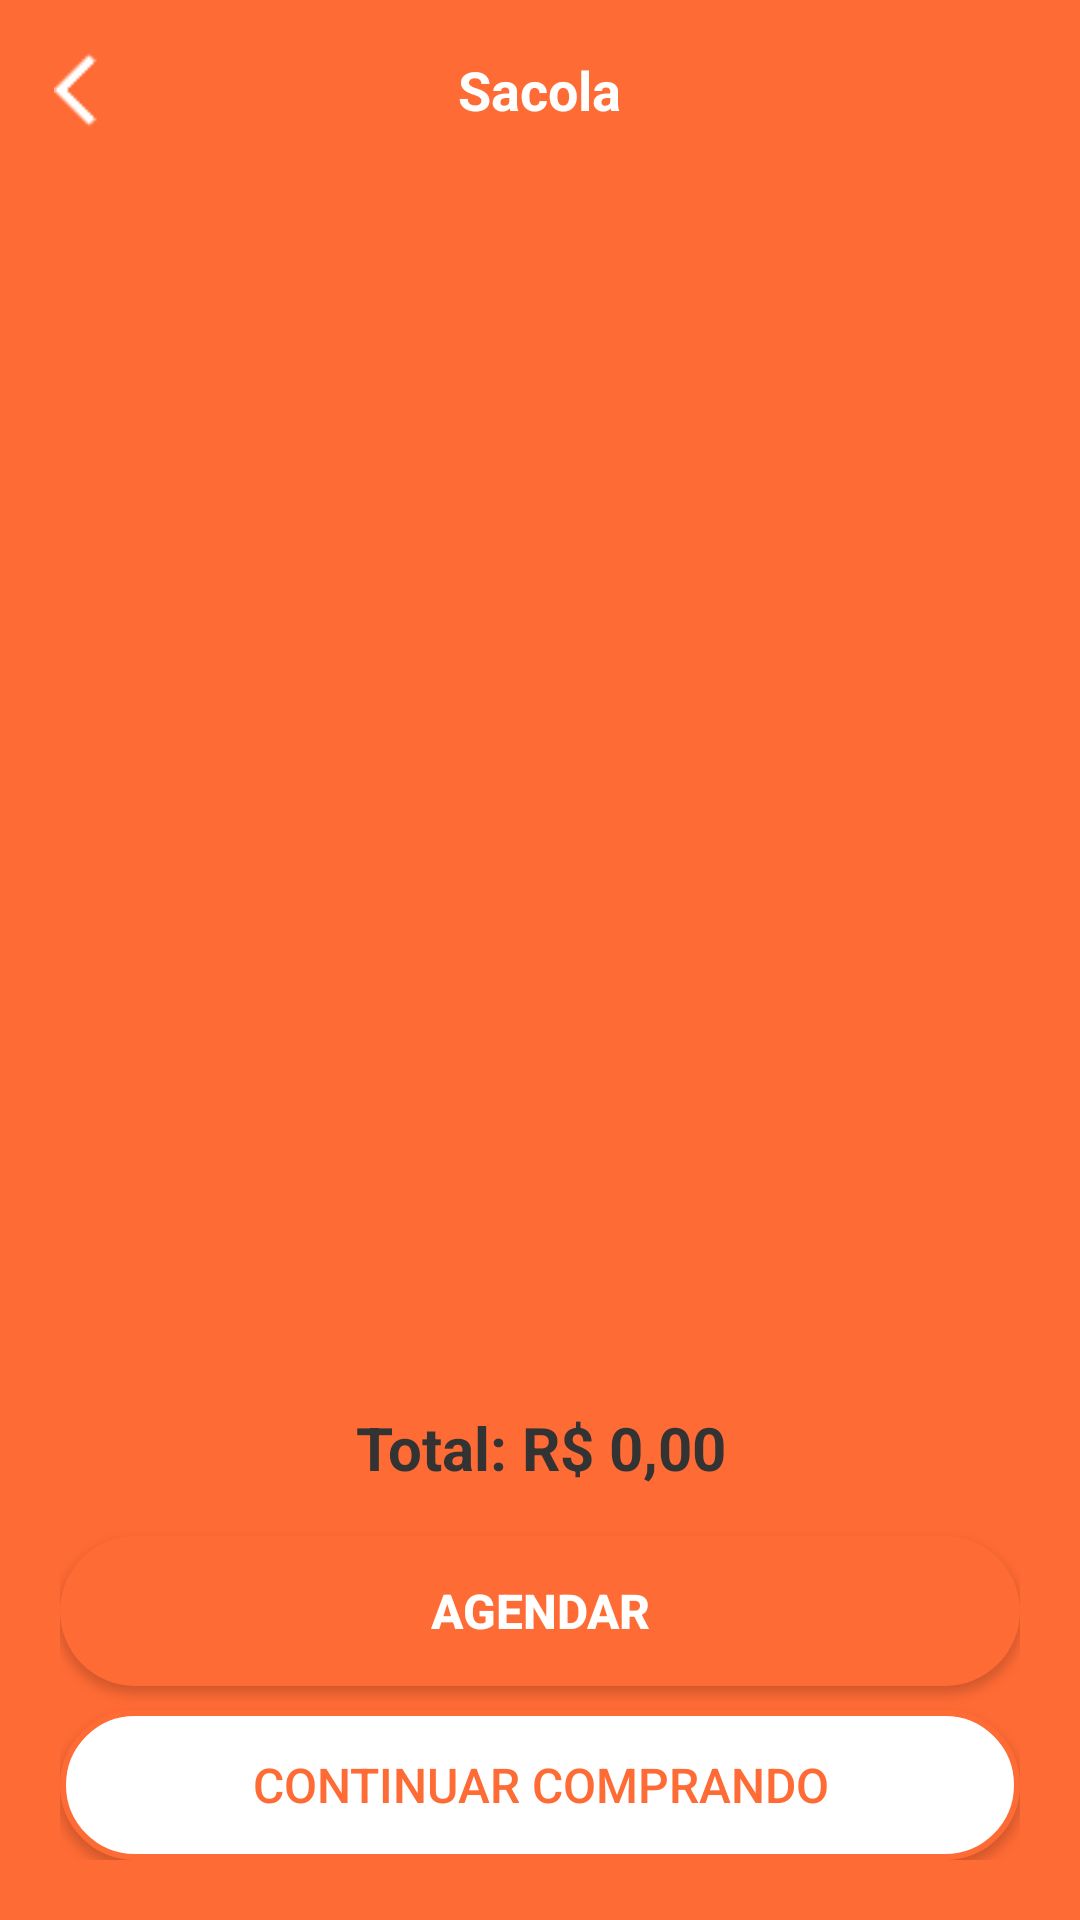

Icon bounding boxes for this 1080×1920 phone screenshot, format (x1, y1, x2, y2):
arrow back: (54, 54, 97, 126)
